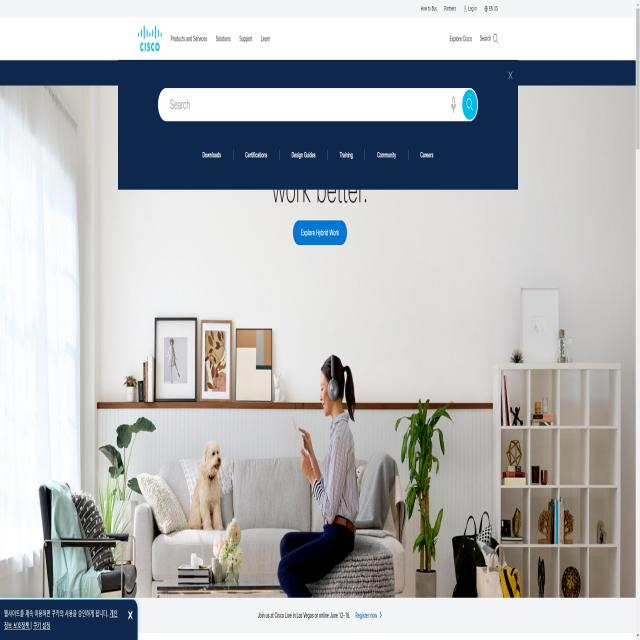menu-bar: (412, 2, 502, 16)
search: (158, 79, 483, 124)
tab-bar: (165, 30, 279, 58)
